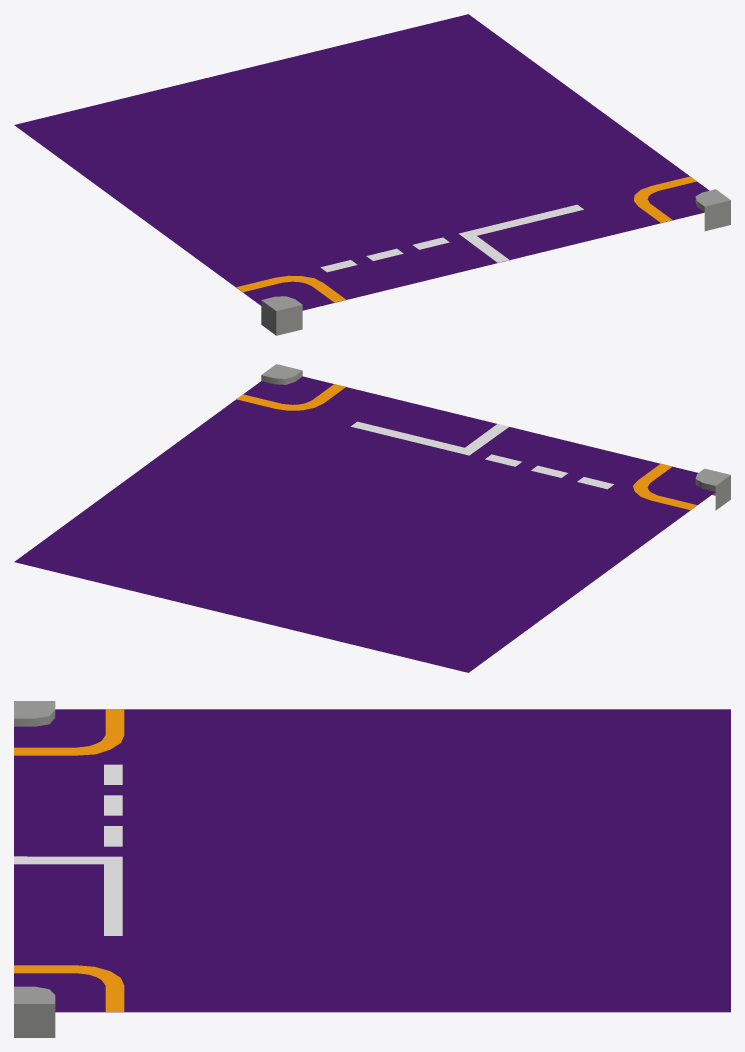
Rendered from ParkingRoad_C_1.fbx.
3 renders of one model, top to bottom at view 1: azimuth 30°, elevation 25°; view 2: azimuth 150°, elevation 25°; view 3: azimuth 270°, elevation 25°, orthographic. The views are drawn at different scales.
Visible parts, largest first — view 1: ParkingRoad_C_1; view 2: ParkingRoad_C_1; view 3: ParkingRoad_C_1.
Boxes of the visible parts, box(x1,y1,x2,y2) form: ParkingRoad_C_1: box(14, 14, 730, 335); ParkingRoad_C_1: box(14, 364, 730, 672); ParkingRoad_C_1: box(14, 701, 730, 1037).
Size of the model in its own units: 800 by 41.48 by 800.
